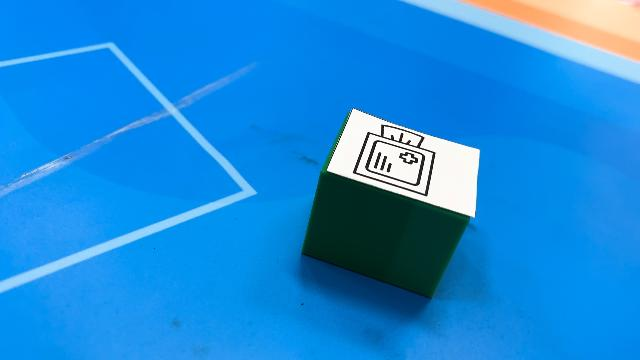napkin: (301, 108, 483, 298)
